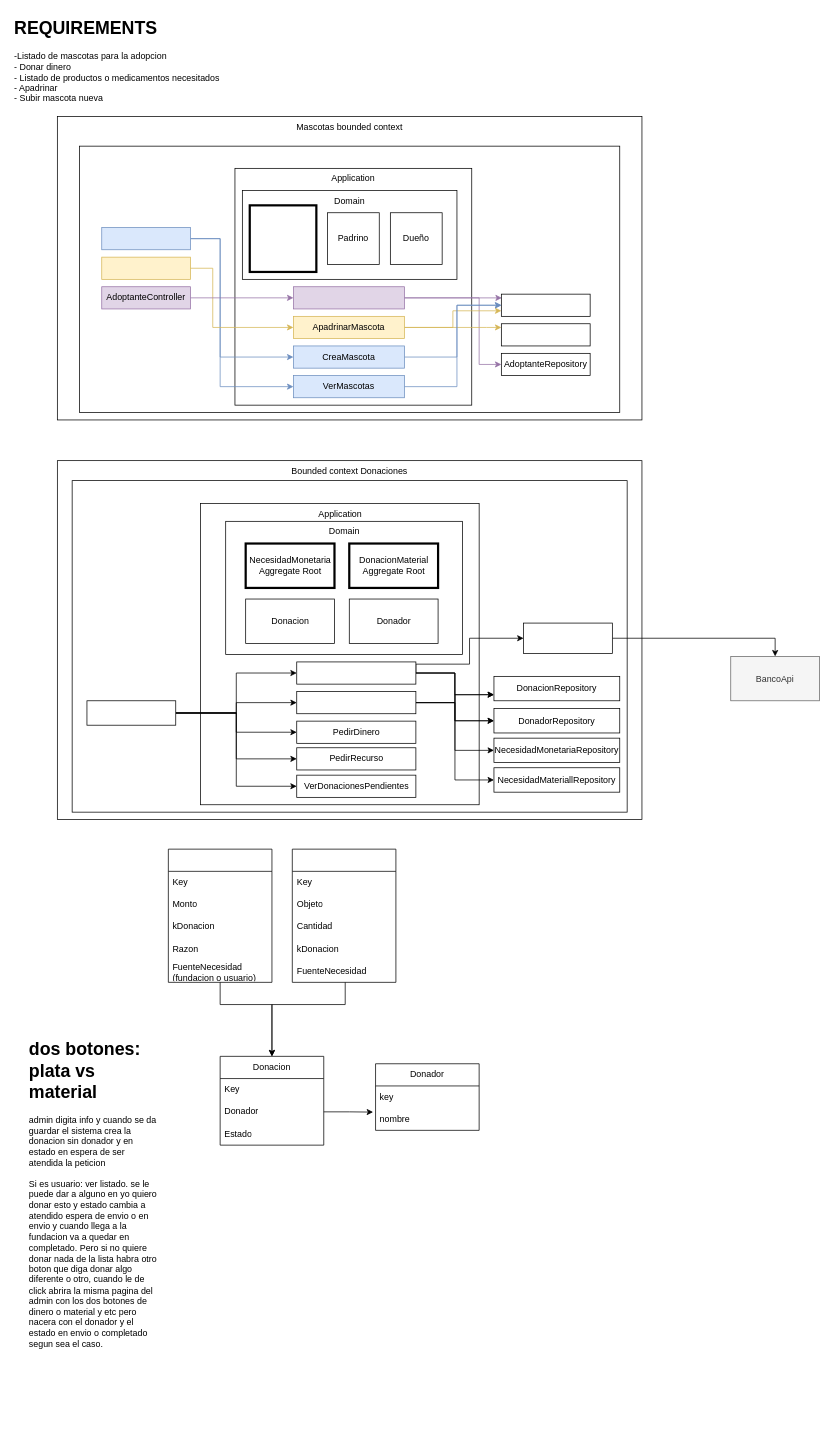
Some shapes in this 833 by 1448 pixel diagram are drawn without their labels. The box of each missing label's shape, as (x1, y1, x2, y2) in pixels:
AdoptarMascota: (293, 286, 404, 309)
BancoService: (523, 622, 612, 653)
DonacionController: (86, 700, 176, 725)
DonarDinero: (296, 661, 416, 684)
DonarRecurso: (296, 691, 416, 714)
Infraestructure: (71, 480, 627, 812)
Infrastructure: (79, 145, 620, 413)
Mascota Aggregate root: (248, 204, 317, 273)
MascotaController: (101, 227, 191, 250)
MascotaRepository: (501, 293, 590, 316)
NecesidadMaterial: (292, 848, 396, 982)
NecesidadMonetaria: (168, 848, 272, 982)
PadrinoController: (101, 256, 191, 279)
PadrinoRepository: (501, 323, 590, 346)
